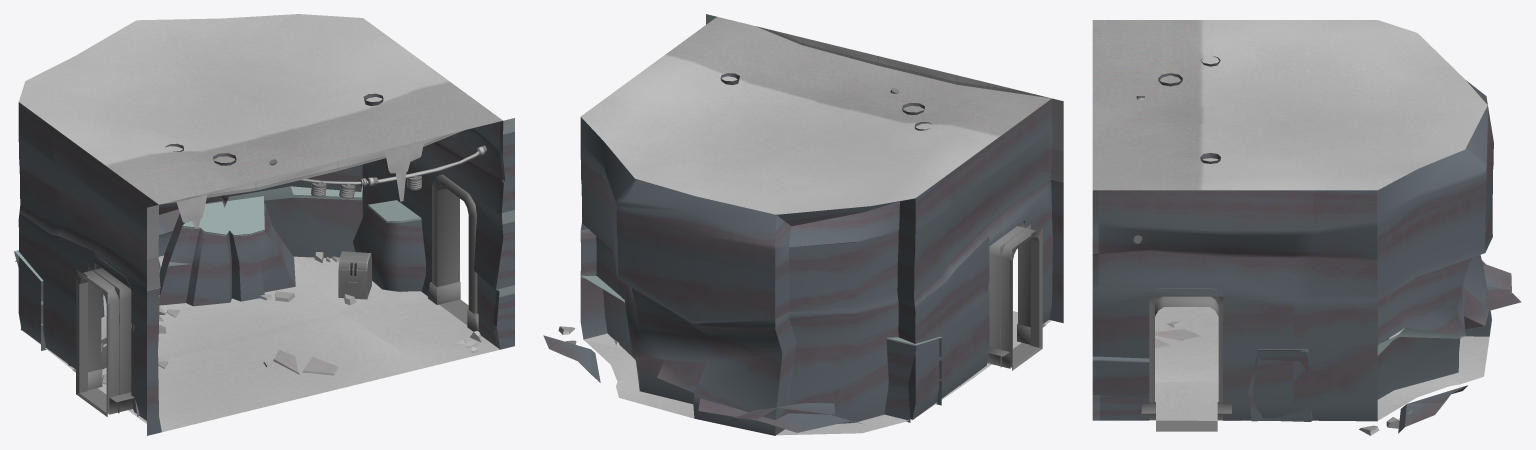
File: MSH_QuestCave_L2_R1_optimized.fbx
3 renders of one model, left to right at view 1: azimuth 30°, elevation 25°; view 2: azimuth 150°, elevation 25°; view 3: azimuth 270°, elevation 25°, orthographic. The views are drawn at different scales.
Visible parts, largest first — view 1: lightmap0; view 2: lightmap0; view 3: lightmap0.
Part boxes in pixels (x1=…): lightmap0: x1=14, y1=14, x2=514, y2=435; lightmap0: x1=543, y1=14, x2=1063, y2=435; lightmap0: x1=1092, y1=20, x2=1521, y2=435.
Size of the model in its own units: 10.57 by 6.02 by 9.9.
2 materials, 1 textured.
